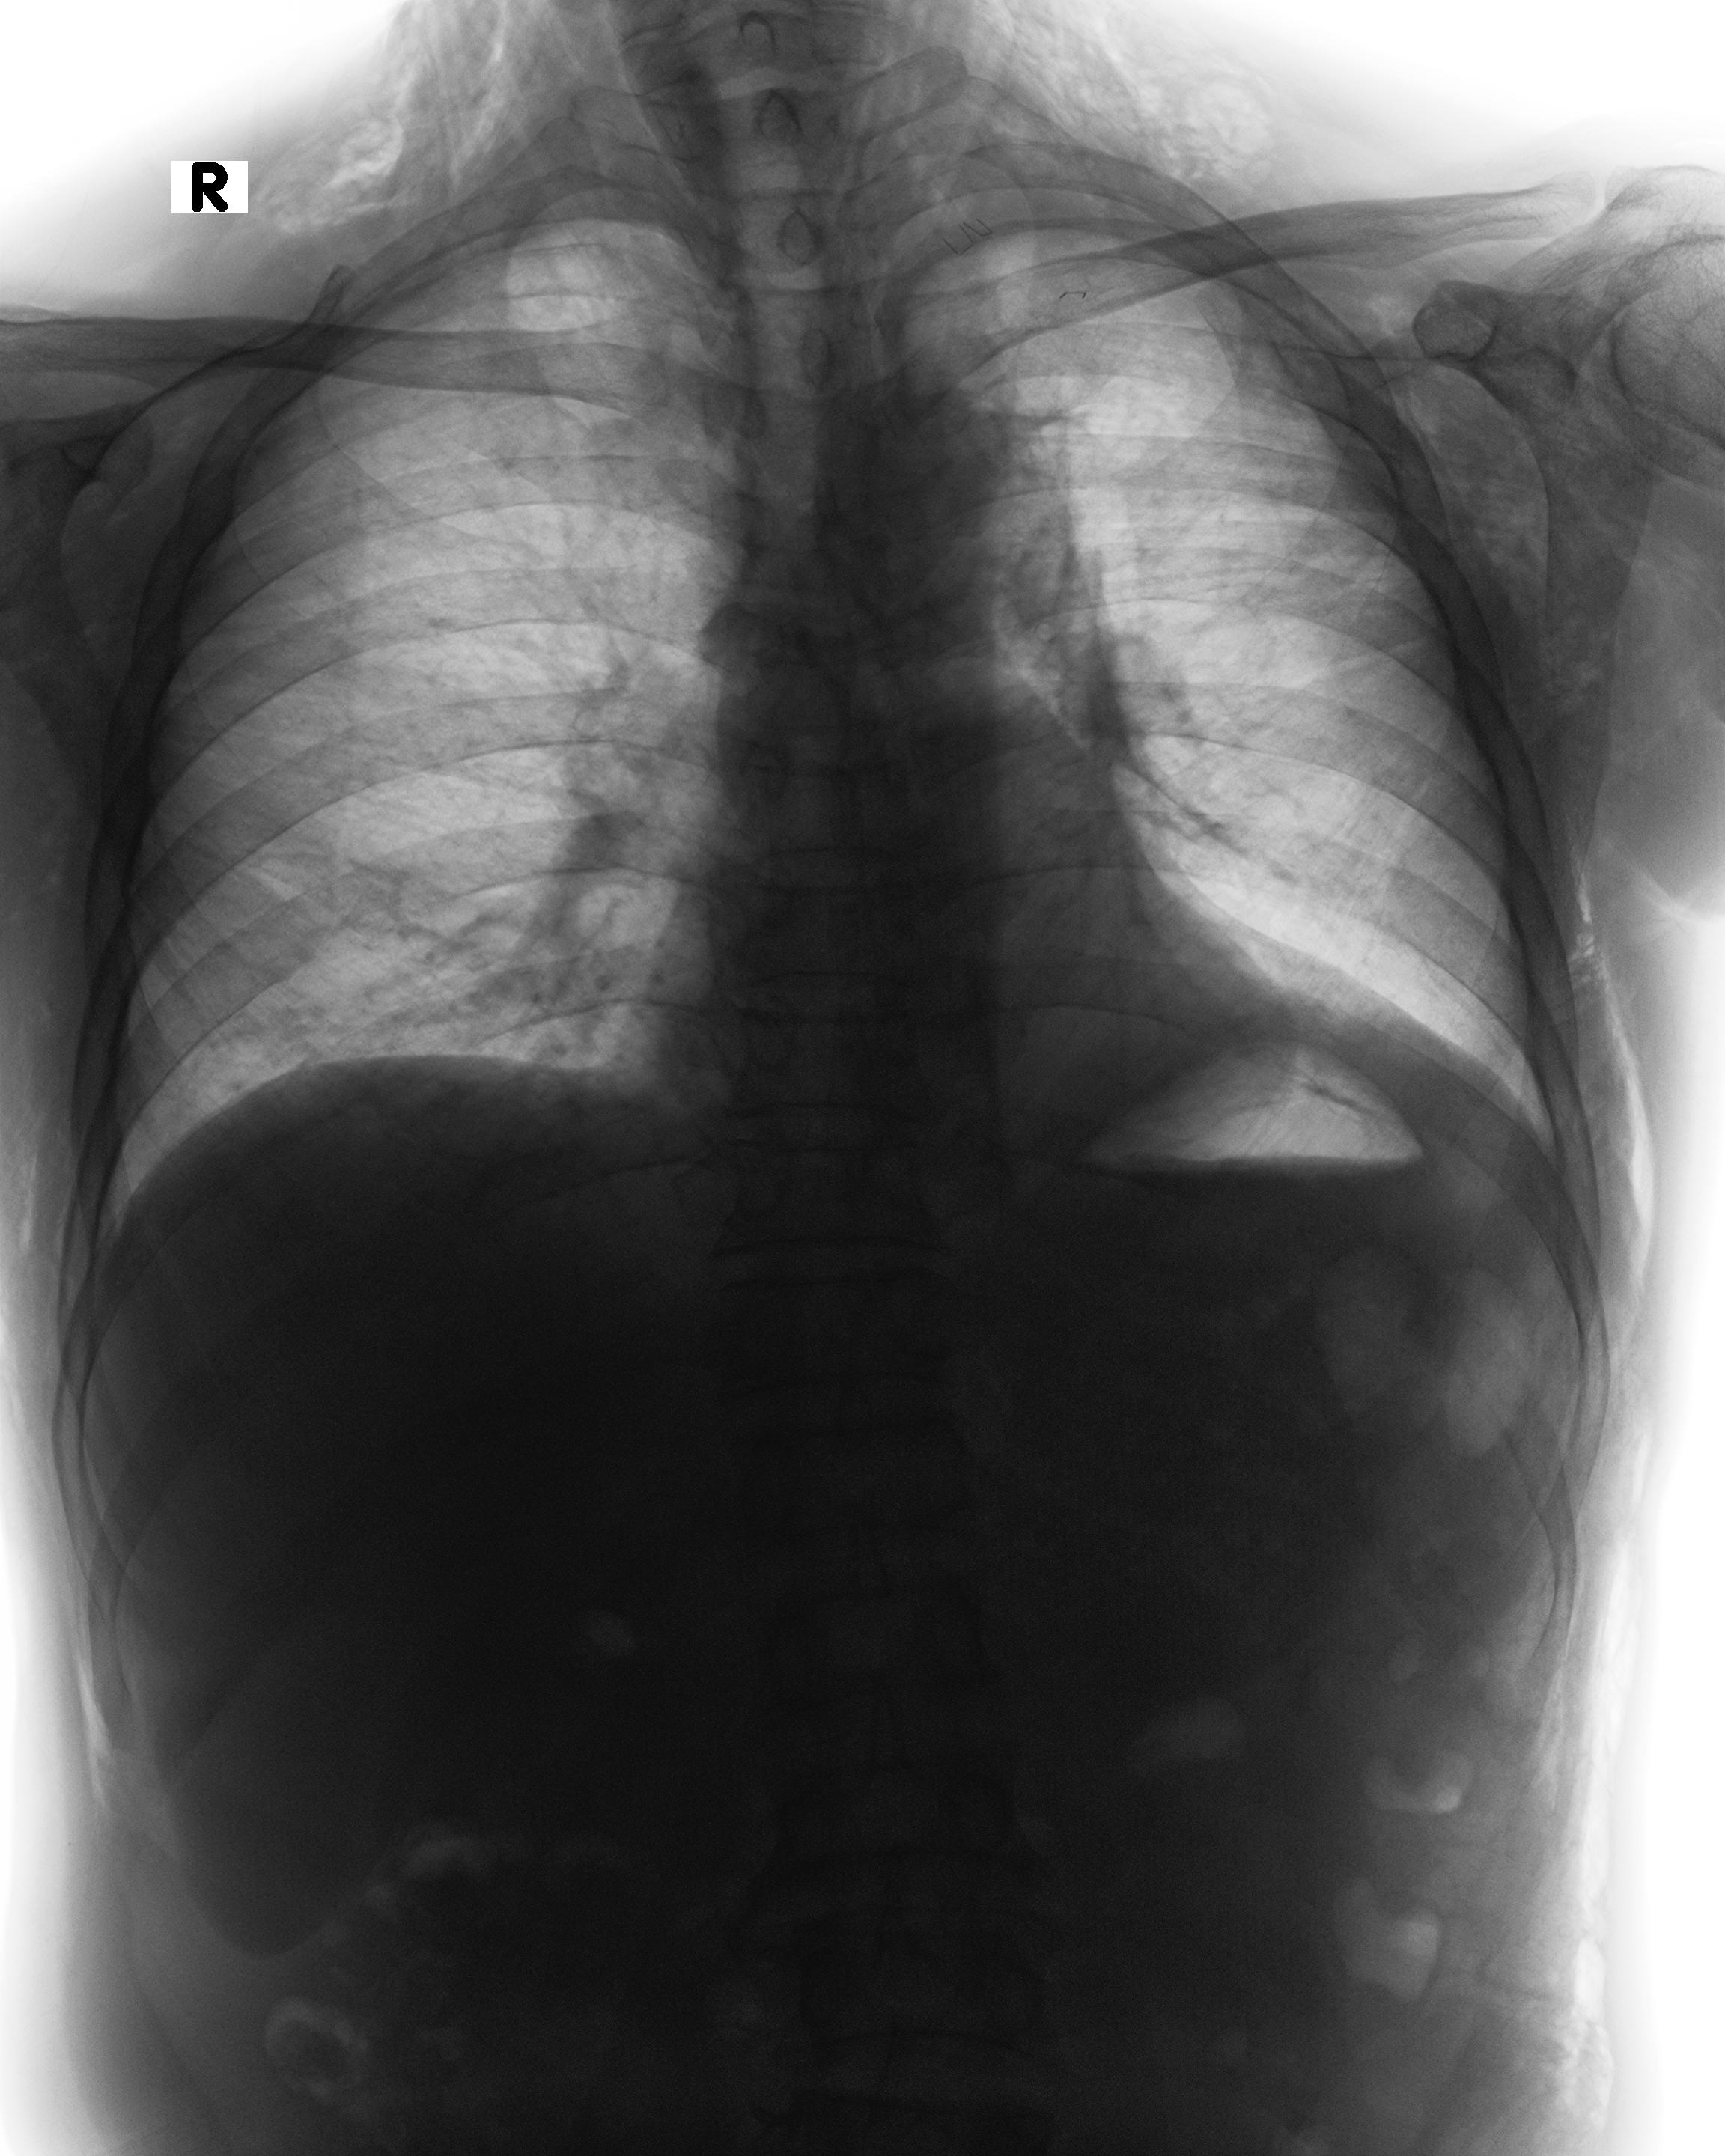other_lesion: (885, 0, 1572, 1111), (32, 0, 660, 1074), (246, 0, 1331, 218), (1579, 878, 1709, 1373), (259, 14, 546, 236), (1554, 876, 1686, 1348), (963, 0, 1296, 183), (55, 1554, 121, 1820), (7, 1084, 51, 1264), (1567, 898, 1589, 931)
